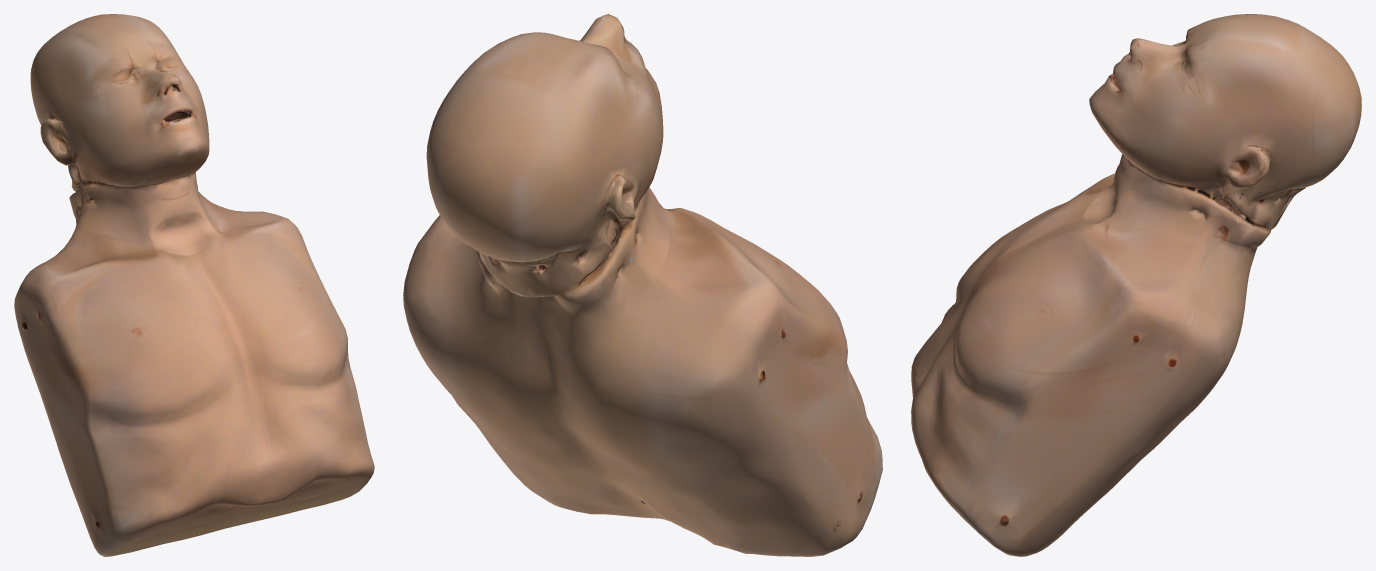
Rendered from Meshy_AI_CPR_Training_Manikin_0127132702_texture.fbx.
The picture shows the model from 3 angles, left to right: view 1: azimuth 30°, elevation 25°; view 2: azimuth 150°, elevation 25°; view 3: azimuth 270°, elevation 25°; orthographic projection. The views are drawn at different scales.
Parts seen in each view (by area): view 1: Mesh1.0; view 2: Mesh1.0; view 3: Mesh1.0.
Part boxes in pixels (bbox=[...]): Mesh1.0: bbox=[14, 14, 374, 556]; Mesh1.0: bbox=[403, 14, 882, 556]; Mesh1.0: bbox=[911, 14, 1361, 556].
Size of the model in its own units: 128 by 199 by 172.
Materials: 1 (1 with a texture image).
